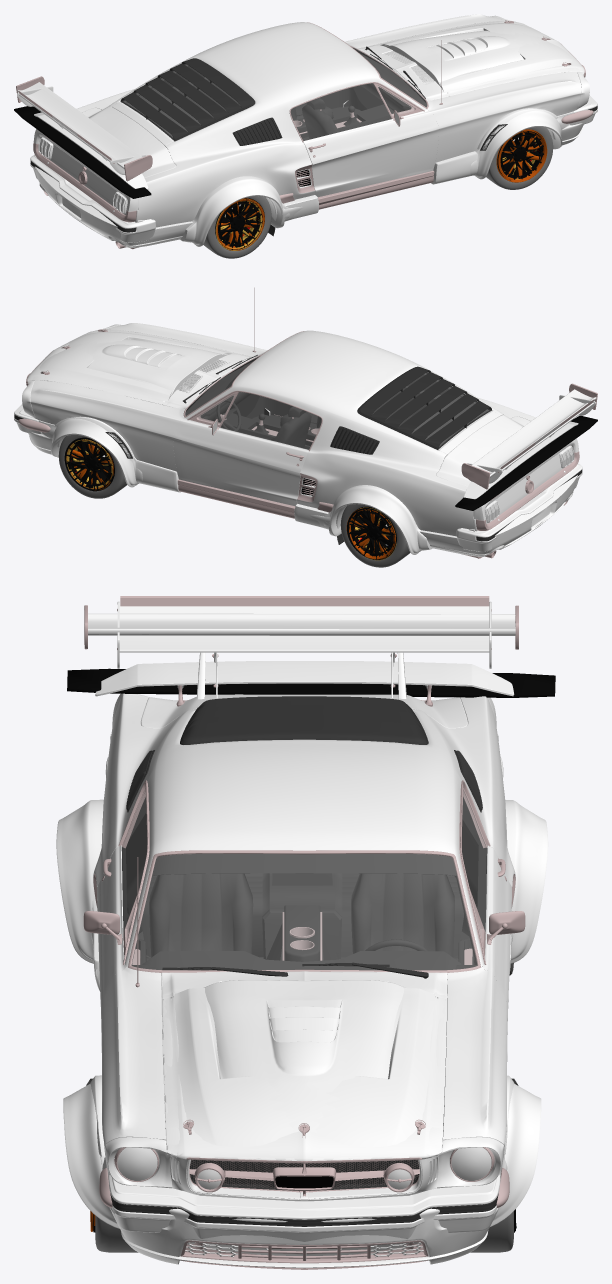
Rendered from musclecar.glb.
3 renders of one model, top to bottom at view 1: azimuth 30°, elevation 25°; view 2: azimuth 150°, elevation 25°; view 3: azimuth 270°, elevation 25°, orthographic. The views are drawn at different scales.
Parts seen in each view (by area): view 1: Body, Hood_C, Interior, Hood_A, Fender_B, Spoiler_A, RearBumper_B, Fender_C, Spoiler_D, RearBumper_C, Tire_BR, Spoiler_C (+15 smaller); view 2: Body, Hood_C, Interior, Hood_A, Fender_B, Spoiler_A, RearBumper_B, Fender_C, Spoiler_D, RearBumper_C, Tire_BL, Tire_FL (+13 smaller); view 3: Body, Interior, Hood_C, Hood_A, Fender_B, FrontBumper_C, Spoiler_C, FrontBumper_B, Spoiler_A, Spoiler_B, Hood_B, Spoiler_D (+4 smaller).
Boxes of the visible parts, box(x1,y1,x2,y2) form: Body: box(33, 14, 589, 227); Hood_C: box(356, 20, 584, 102); Interior: box(123, 48, 426, 140); Hood_A: box(364, 21, 583, 100); Fender_B: box(180, 110, 562, 246); Spoiler_A: box(16, 76, 152, 181); RearBumper_B: box(34, 166, 192, 247); Fender_C: box(266, 108, 557, 220); Spoiler_D: box(14, 106, 151, 198); RearBumper_C: box(30, 155, 155, 242); Tire_BR: box(203, 196, 271, 258); Spoiler_C: box(17, 86, 146, 174); Body: box(22, 287, 579, 536); Hood_C: box(27, 329, 256, 411); Interior: box(185, 356, 488, 449); Hood_A: box(31, 329, 251, 408); Fender_B: box(50, 418, 432, 554); Spoiler_A: box(461, 383, 597, 489); RearBumper_B: box(419, 475, 577, 556); Fender_C: box(57, 416, 346, 528); Spoiler_D: box(455, 415, 597, 510); RearBumper_C: box(456, 463, 582, 551); Tire_BL: box(340, 504, 410, 567); Tire_FL: box(58, 435, 126, 498); Body: box(83, 693, 525, 1201); Interior: box(121, 797, 487, 970); Hood_C: box(162, 971, 446, 1163); Hood_A: box(161, 971, 447, 1163); Fender_B: box(56, 799, 548, 1228); FrontBumper_C: box(108, 1175, 500, 1269); Spoiler_C: box(117, 596, 491, 697); FrontBumper_B: box(102, 1155, 507, 1268); Spoiler_A: box(84, 605, 518, 699); Spoiler_B: box(95, 661, 514, 706); Hood_B: box(161, 972, 447, 1163); Spoiler_D: box(67, 668, 555, 697).
Size of the model in its own units: 4.89 by 1.49 by 2.11.
